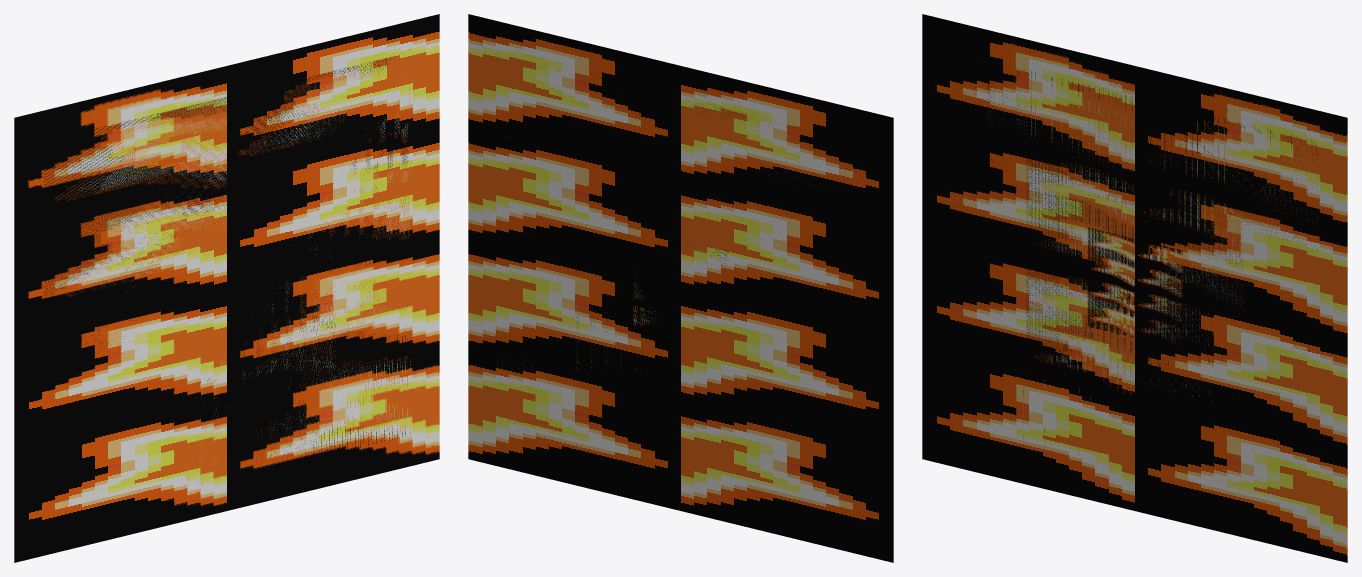
3 renders of one model, left to right at view 1: azimuth 30°, elevation 25°; view 2: azimuth 150°, elevation 25°; view 3: azimuth 330°, elevation 25°, orthographic.
Visible parts, largest first — view 1: ef_134; view 2: ef_134; view 3: ef_134.
Part boxes in pixels (x1=…): ef_134: x1=14, y1=14, x2=439, y2=562; ef_134: x1=468, y1=14, x2=893, y2=562; ef_134: x1=922, y1=14, x2=1347, y2=562.
Bounding box in the file's own units: 0.6943 × 0.6943 × 0.
1 material, 1 textured.
